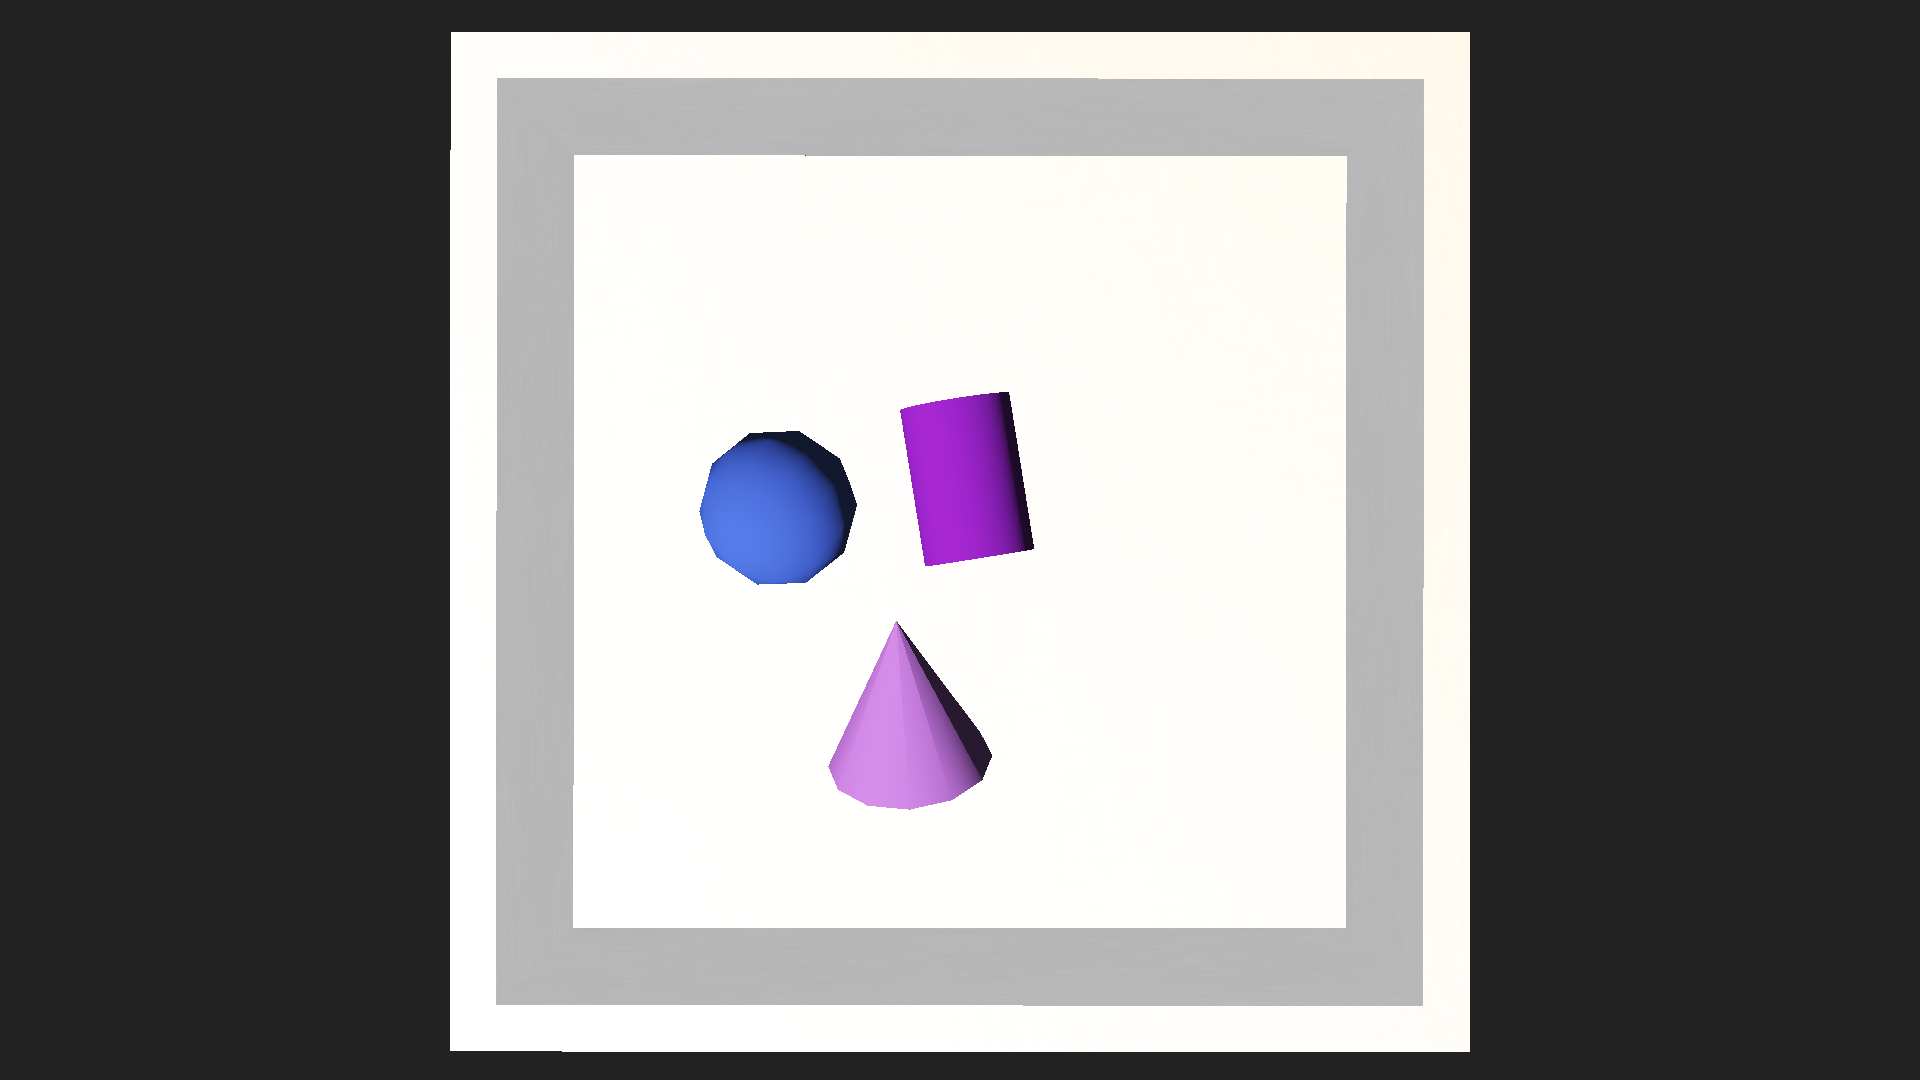cone: (898, 388, 1035, 566)
cylinder: (814, 575, 986, 819)
sphere: (698, 427, 857, 587)
